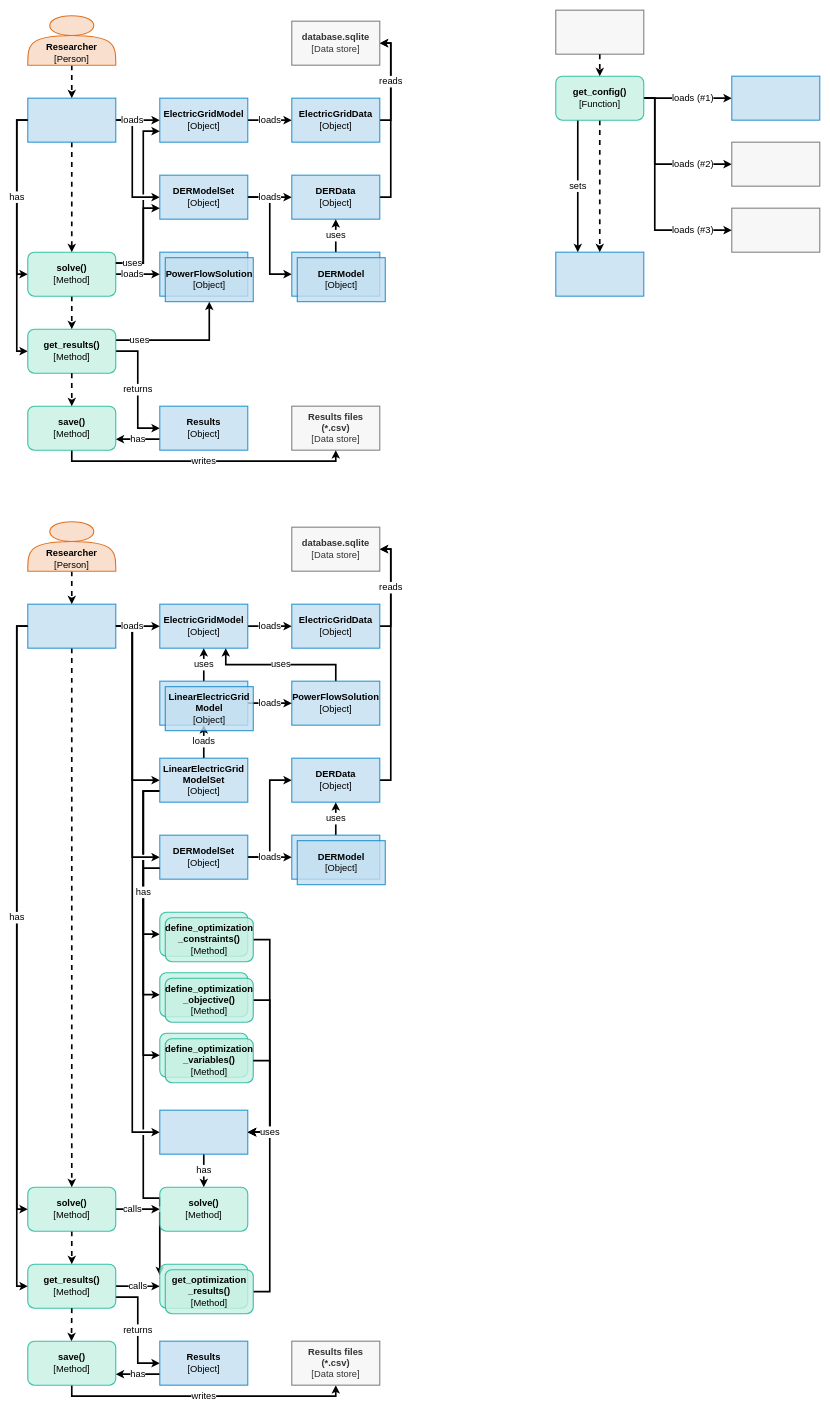
The diagram is 830 pixels wide and 1411 high, and some of its shapes have lost their labels. The centre of each missing label's shape, as x and y in pixels:
base_path [String]: the point at 775,97
config [Dictionary]: the point at 599,273
config [Module]: the point at 599,31
config.yml [Data store]: the point at 775,229
config_default.yml [Data store]: the point at 775,163
NominalOperation Problem [Object]: the point at 71,119
OptimalOperation Problem [Object]: the point at 71,625
Optimization Problem [Object]: the point at 203,1131
